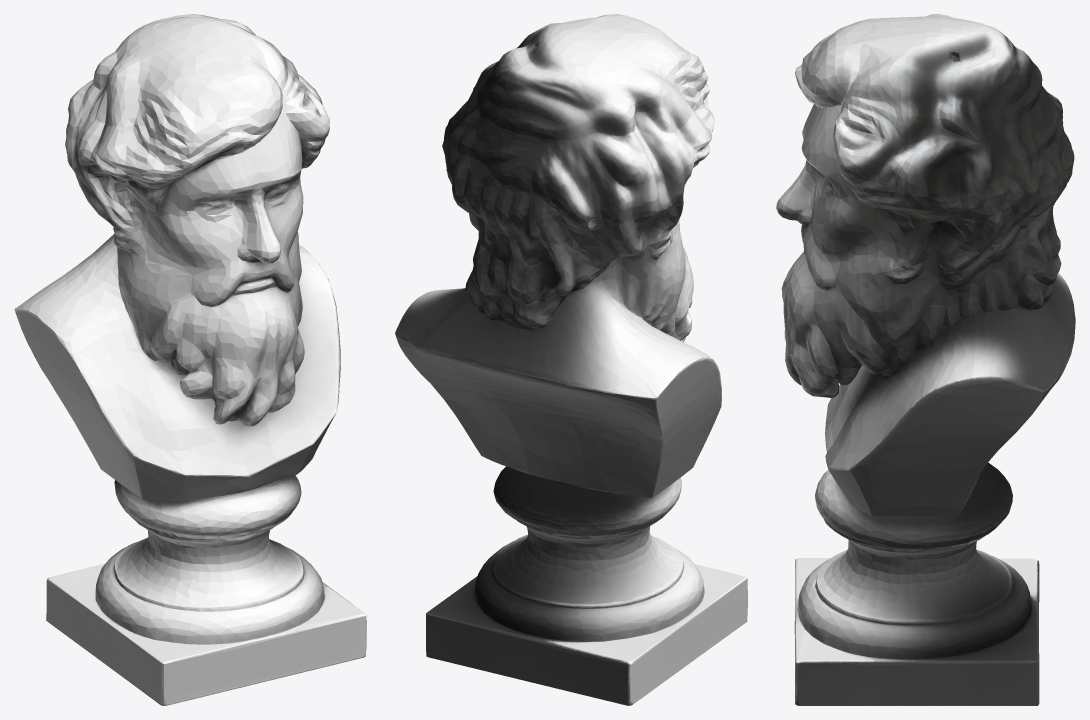
File: philosopher-bust.glb
The picture shows the model from 3 angles, left to right: view 1: azimuth 30°, elevation 25°; view 2: azimuth 150°, elevation 25°; view 3: azimuth 270°, elevation 25°; orthographic projection. The views are drawn at different scales.
Visible parts, largest first — view 1: world; view 2: world; view 3: world.
Part boxes in pixels (x1,y1,x2,y2): world: (14, 14, 366, 705); world: (395, 14, 747, 705); world: (776, 14, 1075, 705).
Size of the model in its own units: 0.4644 by 0.9992 by 0.4327.
1 material, 1 textured.
